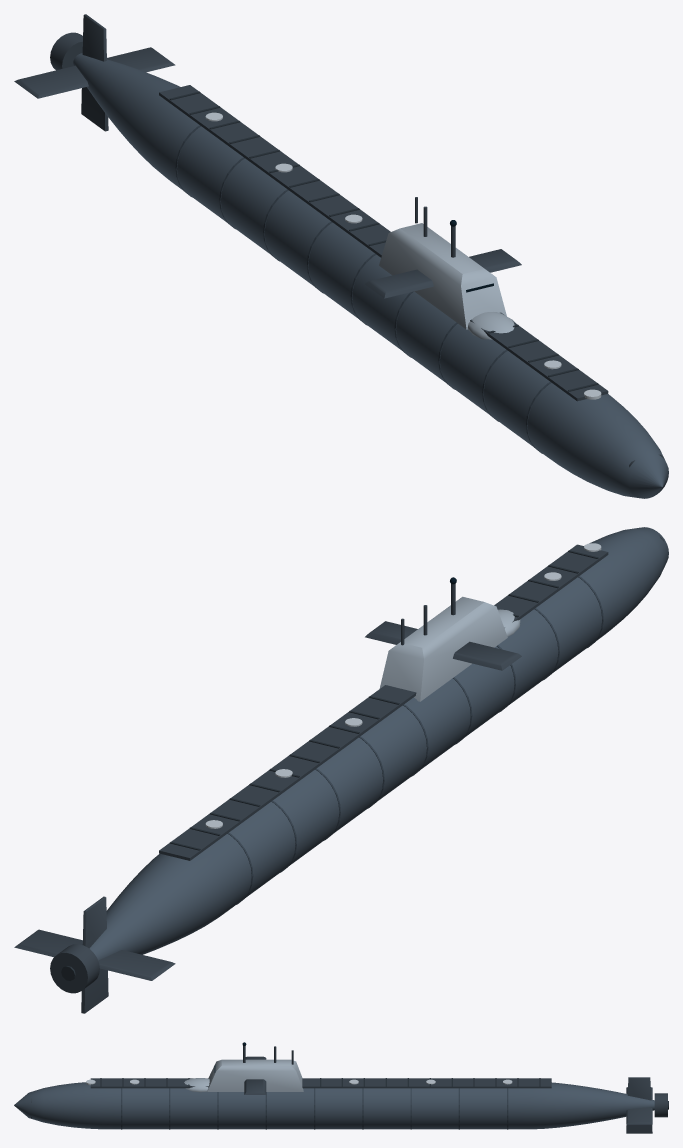
The model's file is ship_submarine.glb.
3 views of the same model, one above another, from view 1: azimuth 30°, elevation 25°; view 2: azimuth 150°, elevation 25°; view 3: azimuth 270°, elevation 25° (orthographic). The views are drawn at different scales.
Visible parts, largest first — view 1: hull_main, casing, sail, planes_stern_h, planes_stern_v, hull_tiles, casing_slats, planes_sail_r, propulsor_ring, sail_fairing, planes_sail_l; view 2: hull_main, casing, sail, planes_stern_h, propulsor_ring, planes_stern_v, hull_tiles, casing_slats, planes_sail_r; view 3: hull_main, casing, sail, planes_stern_v, hull_tiles, planes_stern_h, planes_sail_l, propulsor_ring, sail_fairing, casing_slats.
Part boxes in pixels (box(x1,y1,x2,y2)): hull_main: box(73, 53, 668, 498); casing: box(159, 85, 608, 401); sail: box(379, 223, 506, 329); planes_stern_h: box(14, 47, 175, 98); planes_stern_v: box(81, 14, 108, 131); hull_tiles: box(175, 125, 551, 453); casing_slats: box(169, 91, 598, 391); planes_sail_r: box(365, 269, 433, 298); propulsor_ring: box(50, 32, 82, 70); sail_fairing: box(467, 312, 515, 339); planes_sail_l: box(469, 249, 521, 272); hull_main: box(89, 527, 668, 960); casing: box(159, 544, 608, 860); sail: box(379, 596, 507, 701); planes_stern_h: box(14, 929, 175, 980); propulsor_ring: box(50, 944, 99, 993); planes_stern_v: box(81, 896, 108, 1013); hull_tiles: box(227, 576, 603, 904); casing_slats: box(169, 550, 598, 850); planes_sail_r: box(453, 641, 521, 670); hull_main: box(14, 1082, 654, 1129); casing: box(90, 1078, 551, 1088); sail: box(207, 1059, 303, 1091); planes_stern_v: box(626, 1077, 652, 1133); hull_tiles: box(121, 1088, 508, 1129); planes_stern_h: box(626, 1087, 652, 1124); planes_sail_l: box(244, 1079, 266, 1094); propulsor_ring: box(654, 1093, 667, 1117); sail_fairing: box(184, 1078, 209, 1092); casing_slats: box(100, 1078, 540, 1086).
Size of the model in its own units: 0.4 by 0.456 by 2.99.
